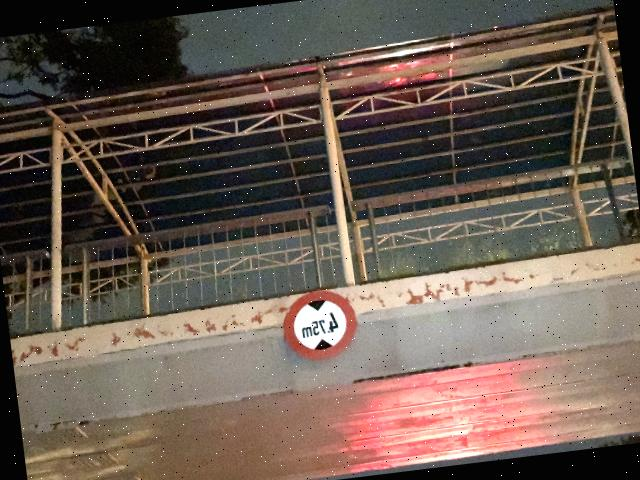han-che-chieu-cao: (279, 286, 361, 364)
